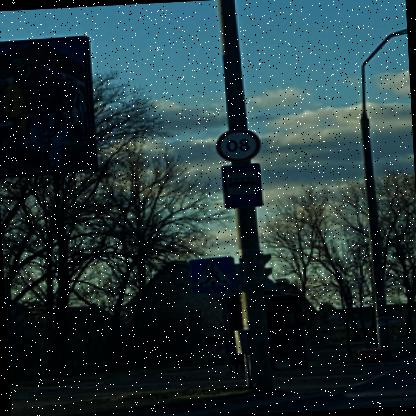crosswalk: (191, 254, 237, 291)
speedlimit: (216, 125, 264, 160)
